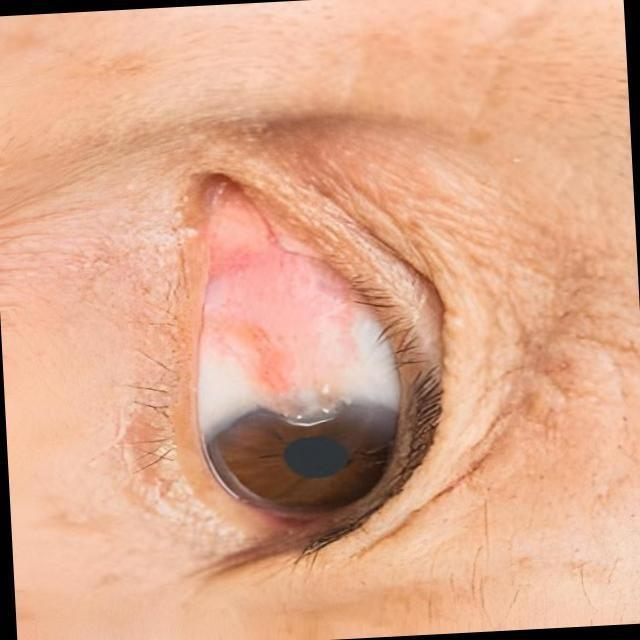Pterygium: (194, 196, 390, 432)
